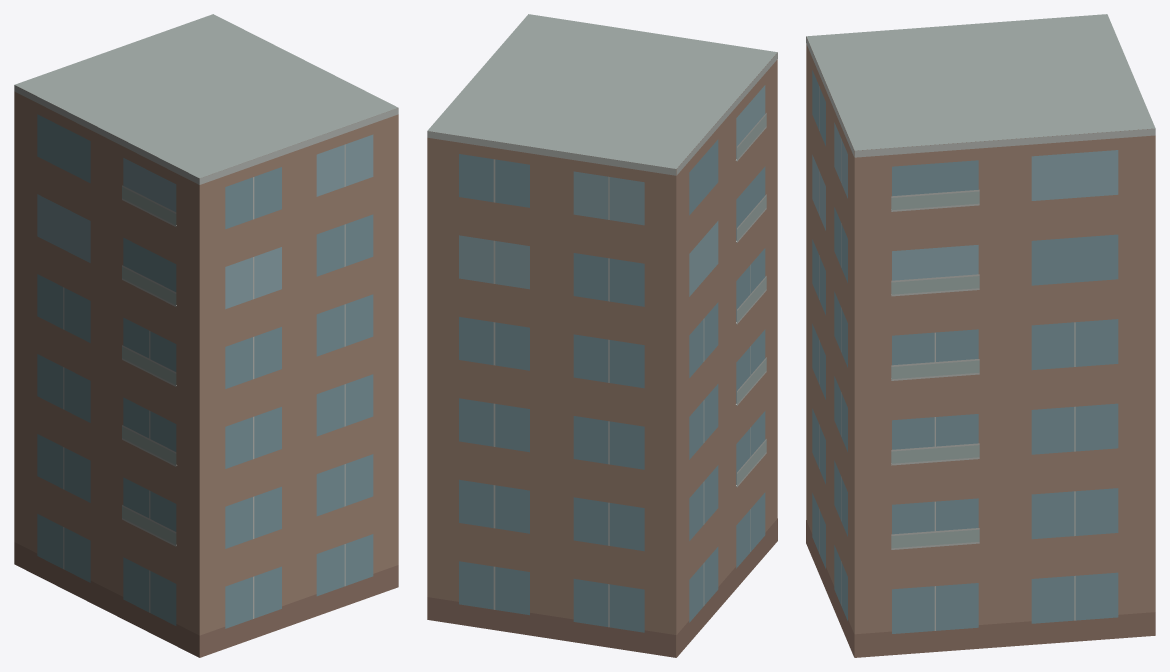
Rendered from survey-upis-32699661.glb.
The picture shows the model from 3 angles, left to right: view 1: azimuth 30°, elevation 25°; view 2: azimuth 150°, elevation 25°; view 3: azimuth 270°, elevation 25°; orthographic projection. The views are drawn at different scales.
Parts seen in each view (by area): view 1: survey-upis-32699661.tmp; view 2: survey-upis-32699661.tmp; view 3: survey-upis-32699661.tmp.
Part boxes in pixels (x1,y1,x2,y2): survey-upis-32699661.tmp: (14,14,398,657); survey-upis-32699661.tmp: (427,14,777,657); survey-upis-32699661.tmp: (806,14,1155,657).
Bounding box in the file's own units: 10.24 × 17.7 × 11.06.
